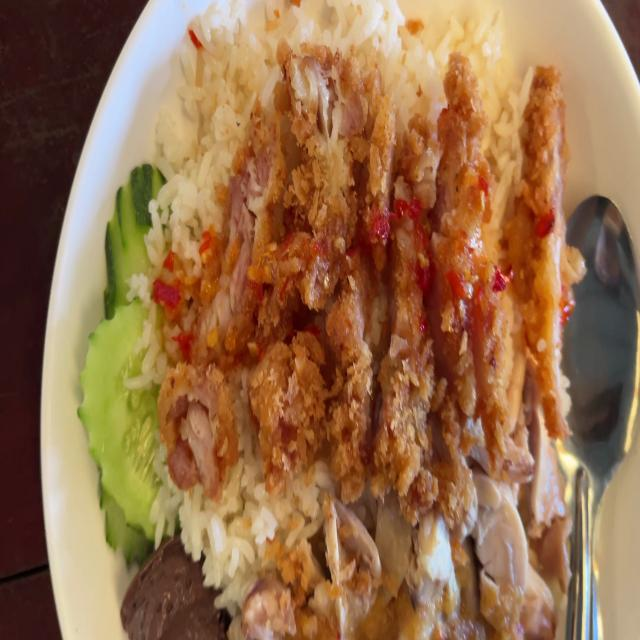boiled_chicken: (254, 476, 560, 640)
boiled_chicken_blood_jelly: (118, 539, 219, 640)
chicken_rice: (82, 0, 580, 640)
cucumber: (76, 162, 179, 534)
fried_chicken: (175, 61, 492, 460), (510, 65, 564, 422)
